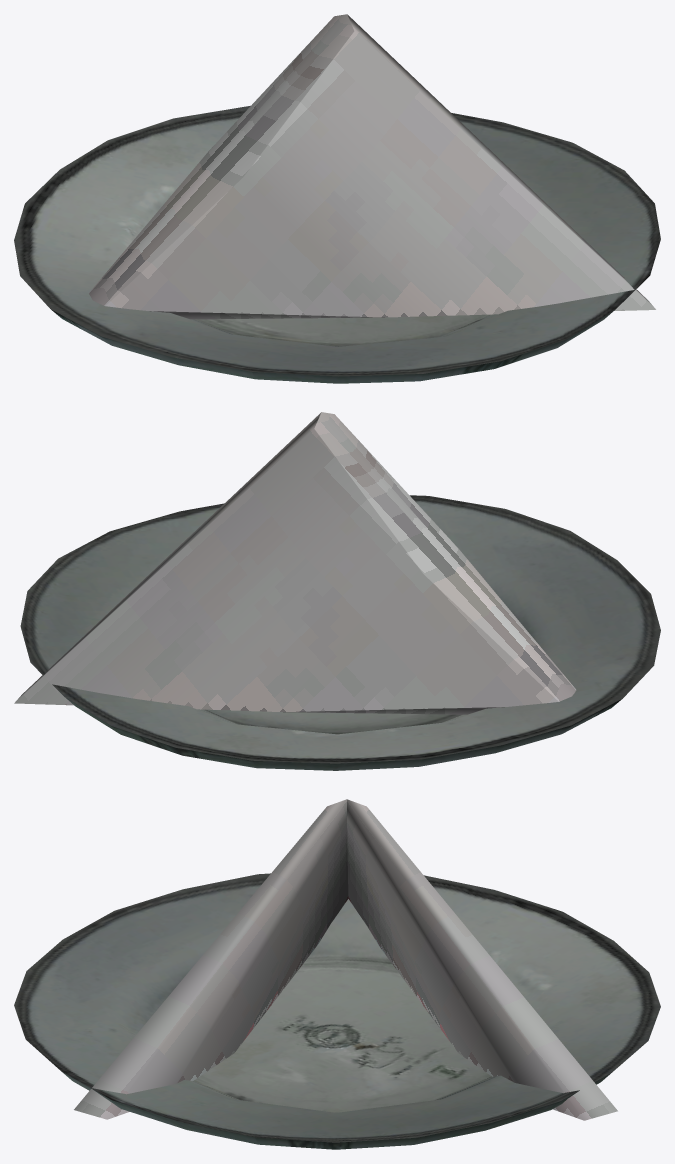
Rendered from dub_rest_napkins_plates_lod0.glb.
3 views of the same model, one above another, from view 1: azimuth 30°, elevation 25°; view 2: azimuth 150°, elevation 25°; view 3: azimuth 270°, elevation 25° (orthographic). The views are drawn at different scales.
Parts seen in each view (by area): view 1: surf1, surf0; view 2: surf1, surf0; view 3: surf0, surf1.
Part boxes in pixels (box(x1,y1,x2,y2)): surf1: box(89, 14, 655, 319); surf0: box(14, 105, 660, 383); surf1: box(14, 412, 576, 714); surf0: box(20, 495, 660, 770); surf0: box(14, 873, 660, 1149); surf1: box(74, 799, 617, 1120).
Size of the model in its own units: 13.34 by 5.88 by 13.34.
